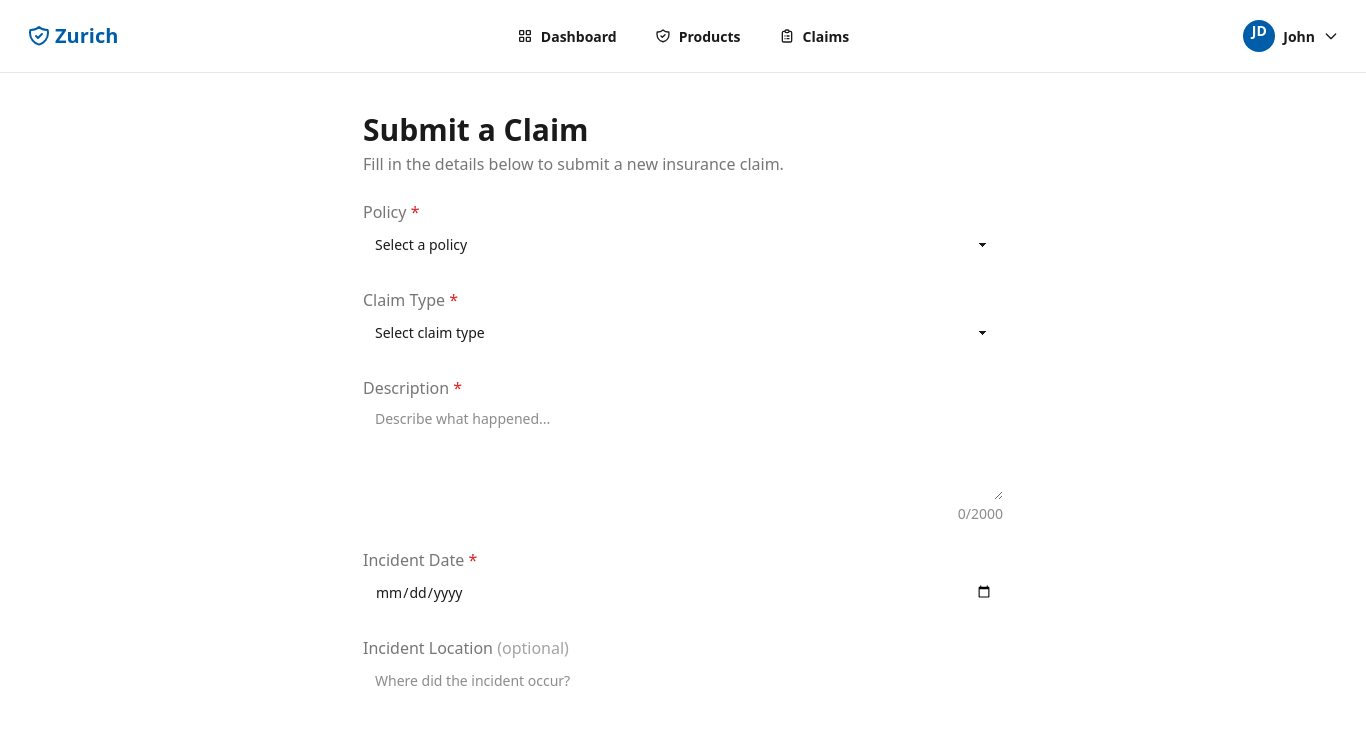
Test: Submit Claim Page › shows "Incident date cannot be in the future" validation message
Note: Set a future date
Step 1. Type "2099-12-31" into the date field labelled "Incident Date *" → (683, 592), box top-left (363, 572), bottom-right (1003, 612)
(page scrolled)
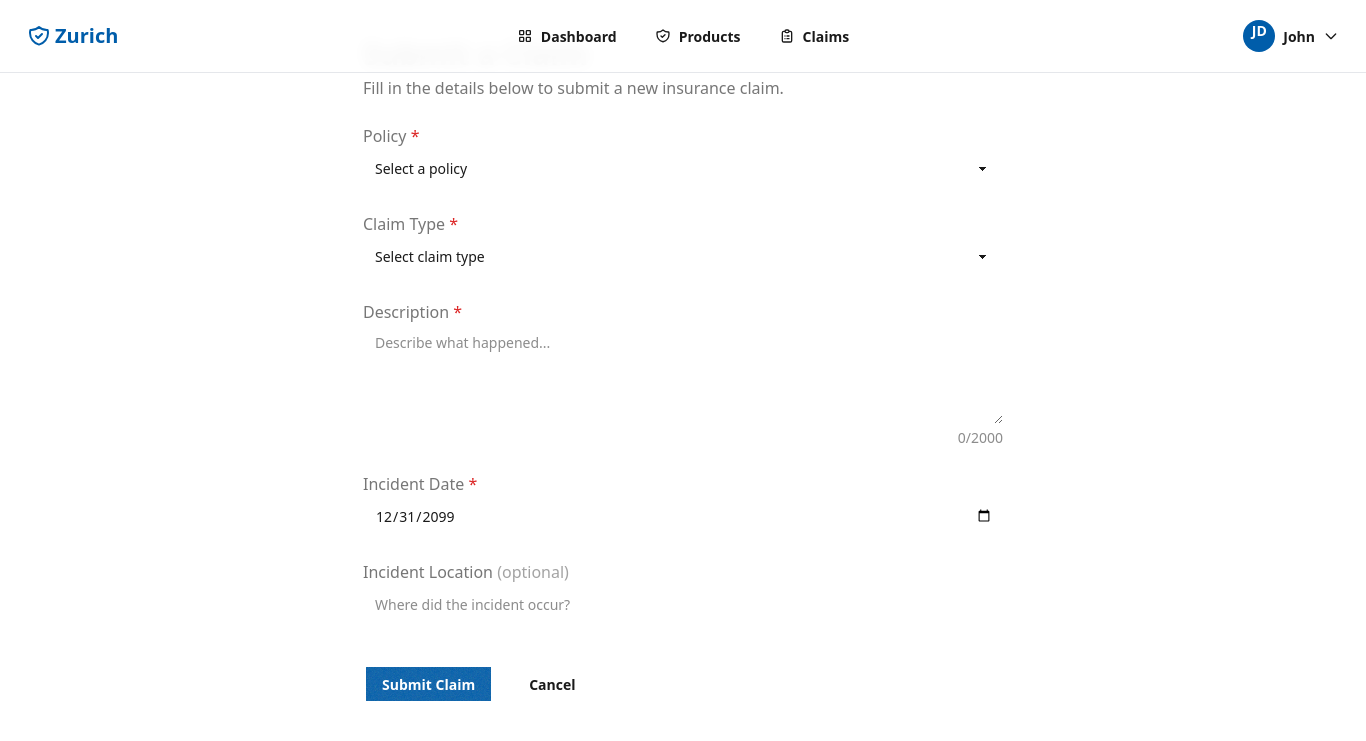
Step 2. Click the button "Submit Claim" → (429, 684), box top-left (363, 664), bottom-right (494, 704)
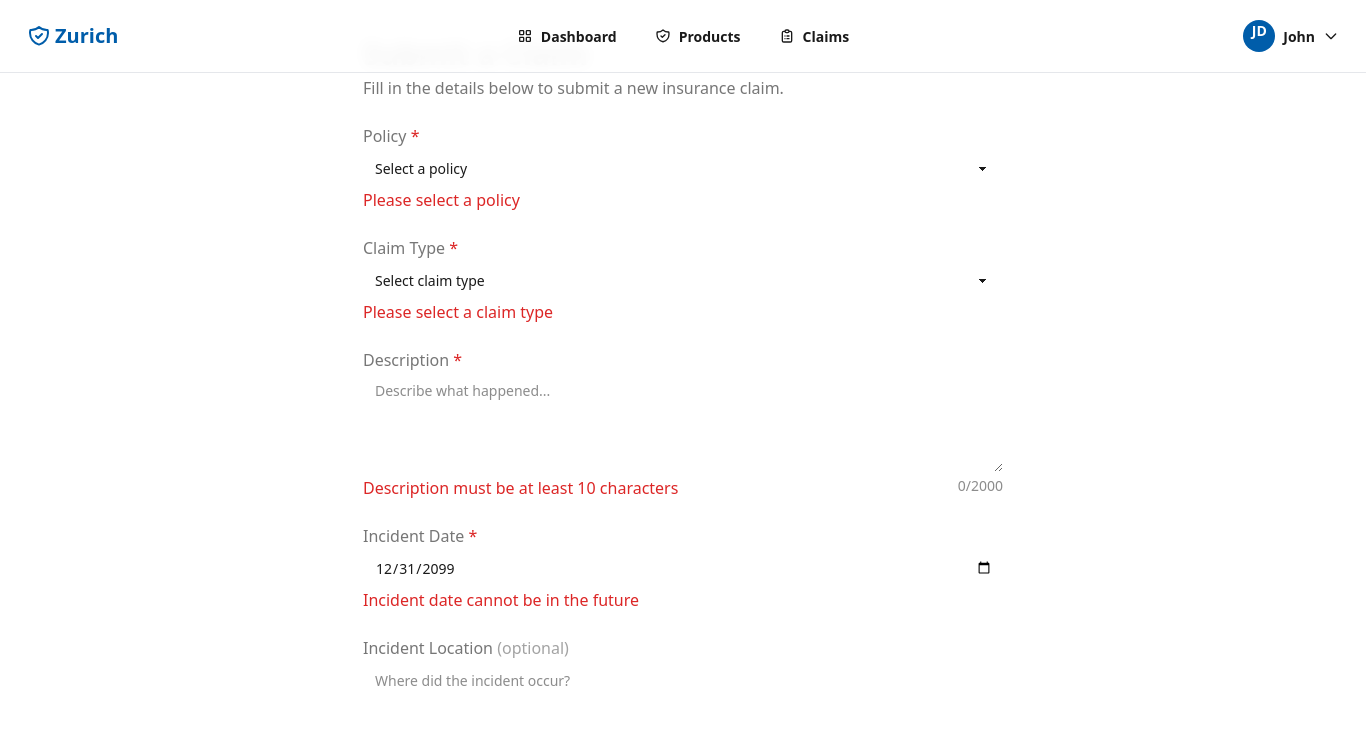
expect the text "Incident date cannot be in the future" is shown: met, box top-left (363, 588), bottom-right (639, 612)
